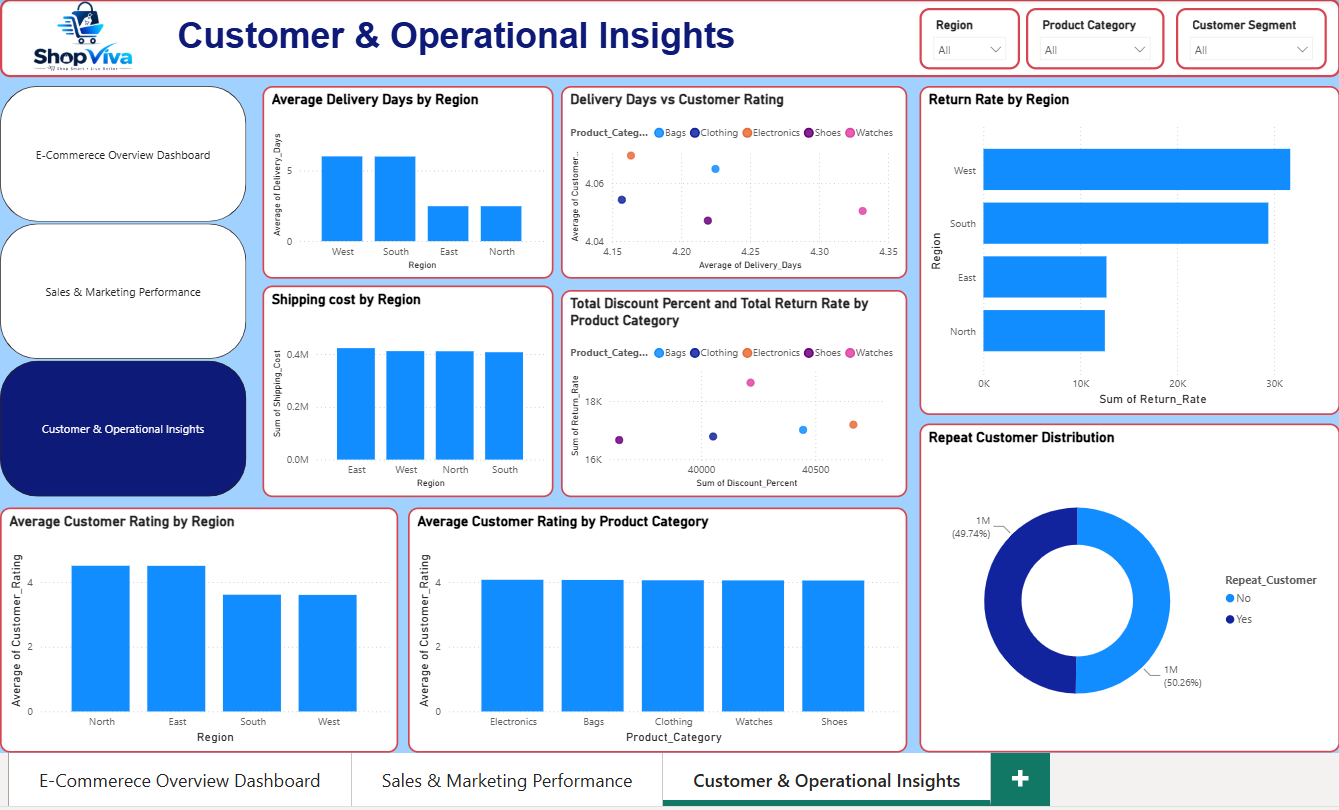

The dashboard page shown, as its layout file describes it:
{"tool":"powerbi","page":{"name":"Customer & Operational Insights","canvas":[1600,900],"ordinal":2},"visuals":[{"type":"textbox","box":[0,0,1600,93.3],"z":0},{"type":"image","box":[0,0,198.3,93.3],"z":1000},{"type":"barChart","title":"Return Rate by Region","fields":{"Y":["Sum(Sheet.Return_Rate)"],"Category":["Sheet.Region"]},"box":[1098.1,103.8,501.9,392.5],"z":2000},{"type":"scatterChart","title":"Delivery Days vs Customer Rating","fields":{"X":["Avg(Sheet.Delivery_Days)"],"Y":["Avg(Sheet.Customer_Rating)"],"Series":["Sheet.Product_Category"]},"box":[669.8,103.8,413.2,230.2],"z":3000},{"type":"slicer","fields":{"Values":["Sheet.Region"]},"box":[1098.1,11.3,120,73.3],"z":4000},{"type":"slicer","fields":{"Values":["Sheet.Product_Category"]},"box":[1224.5,11.3,165,73.3],"z":5000},{"type":"slicer","fields":{"Values":["Sheet.Customer_Segment"]},"box":[1403.8,11.3,180,73.3],"z":6000},{"type":"clusteredColumnChart","title":"Average Customer Rating by Product Category","fields":{"Category":["Sheet.Product_Category"],"Y":["Avg(Sheet.Customer_Rating)"]},"box":[486.8,607.5,596.2,292.5],"z":7000},{"type":"columnChart","title":"Average Delivery Days by Region","fields":{"Y":["Avg(Sheet.Delivery_Days)"],"Category":["Sheet.Region"]},"box":[313.2,103.8,347.2,230.2],"z":8000},{"type":"donutChart","title":"Repeat Customer Distribution","fields":{"Category":["Sheet.Repeat_Customer"],"Y":["Sum(Sheet.Orders)"]},"box":[1098.1,507.5,501.9,392.5],"z":9000},{"type":"columnChart","title":"Shipping cost by Region","fields":{"Category":["Sheet.Region"],"Y":["Sum(Sheet.Shipping_Cost)"]},"box":[313.2,341.5,347.2,252.8],"z":10000},{"type":"scatterChart","title":"Total Discount Percent and Total Return Rate by Product Category","fields":{"X":["Sum(Sheet.Discount_Percent)"],"Y":["Sum(Sheet.Return_Rate)"],"Series":["Sheet.Product_Category"]},"box":[669.8,347.2,413.2,247.2],"z":11000},{"type":"clusteredColumnChart","title":"Average Customer Rating by Region","fields":{"Y":["Avg(Sheet.Customer_Rating)"],"Category":["Sheet.Region"]},"box":[0,607.5,475.5,292.5],"z":12000},{"type":"pageNavigator","box":[0,103.8,294.3,490.6],"z":13000}]}

Visuals, with their boxes on the page's 1600x900 design canvas (x1, y1, x2, y2). These are canvas units, not pixel positions in the 1339x810 screenshot, which may show the page scaled, cropped or inside an application window:
textbox: bbox=[0, 0, 1600, 93]
image: bbox=[0, 0, 198, 93]
"Return Rate by Region" barChart: bbox=[1098, 104, 1600, 496]
"Delivery Days vs Customer Rating" scatterChart: bbox=[670, 104, 1083, 334]
slicer - Sheet.Region: bbox=[1098, 11, 1218, 85]
slicer - Sheet.Product_Category: bbox=[1224, 11, 1390, 85]
slicer - Sheet.Customer_Segment: bbox=[1404, 11, 1584, 85]
"Average Customer Rating by Product Category" clusteredColumnChart: bbox=[487, 608, 1083, 900]
"Average Delivery Days by Region" columnChart: bbox=[313, 104, 660, 334]
"Repeat Customer Distribution" donutChart: bbox=[1098, 508, 1600, 900]
"Shipping cost by Region" columnChart: bbox=[313, 342, 660, 594]
"Total Discount Percent and Total Return Rate by Product Category" scatterChart: bbox=[670, 347, 1083, 594]
"Average Customer Rating by Region" clusteredColumnChart: bbox=[0, 608, 476, 900]
pageNavigator: bbox=[0, 104, 294, 594]
